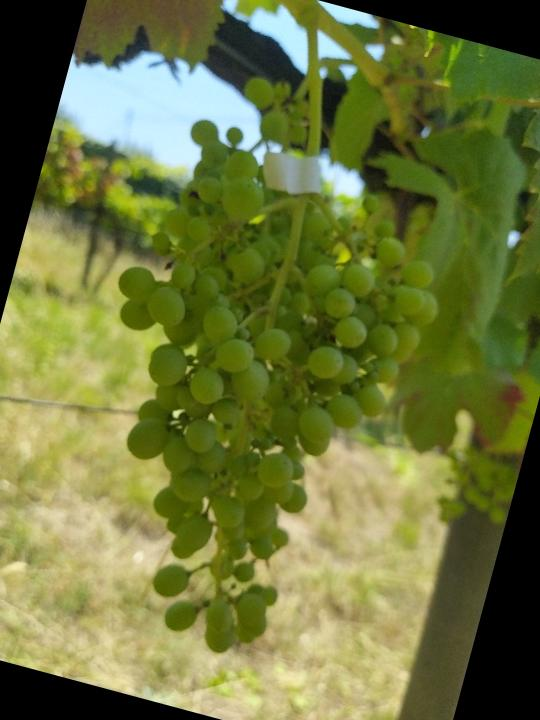grape: (30, 107, 475, 688)
